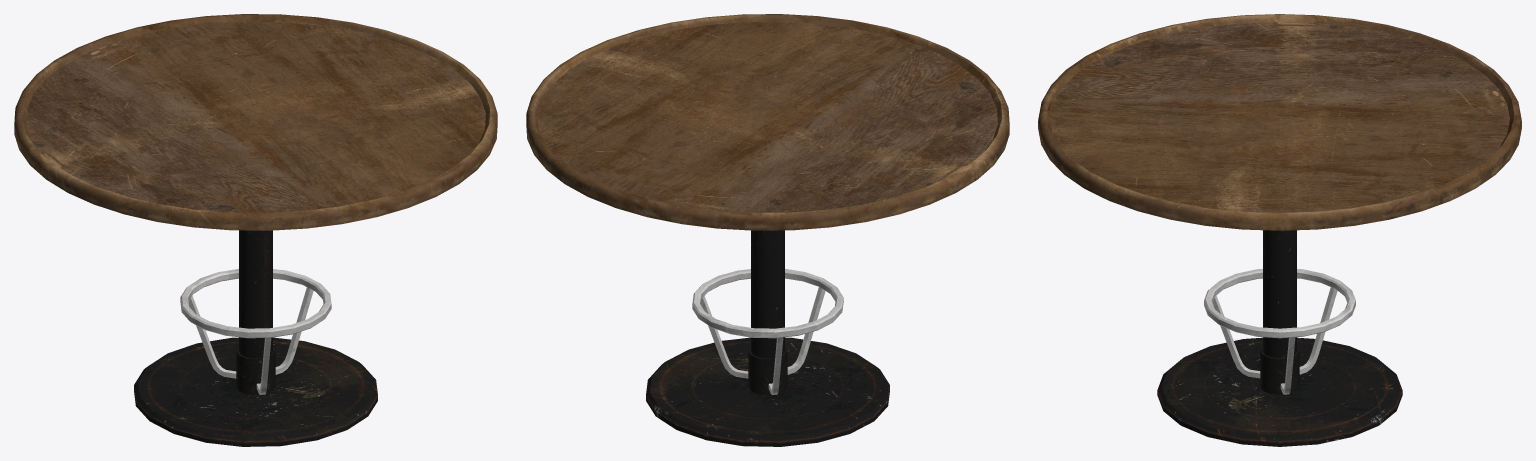
The model's file is Prop_Wood_Table.fbx.
3 renders of one model, left to right at view 1: azimuth 30°, elevation 25°; view 2: azimuth 150°, elevation 25°; view 3: azimuth 270°, elevation 25°, orthographic.
Visible parts, largest first — view 1: Prop_Wood_Table; view 2: Prop_Wood_Table; view 3: Prop_Wood_Table.
Boxes of the visible parts, left/top/right/bottom form: Prop_Wood_Table: left=14, top=14, right=497, bottom=446; Prop_Wood_Table: left=526, top=14, right=1009, bottom=446; Prop_Wood_Table: left=1038, top=14, right=1521, bottom=446.
Bounding box in the file's own units: 60.62 × 38.88 × 60.62.
